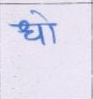o_matra: (42, 12, 58, 44)
